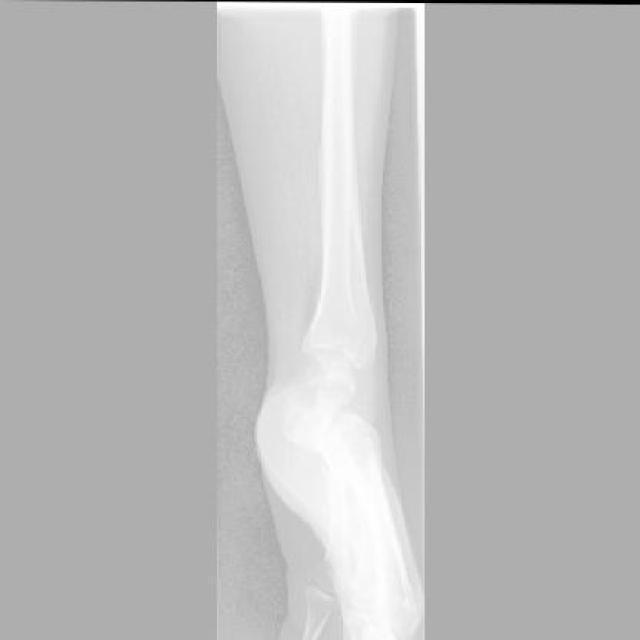Fracture: (337, 421, 376, 458), (350, 401, 364, 414)
